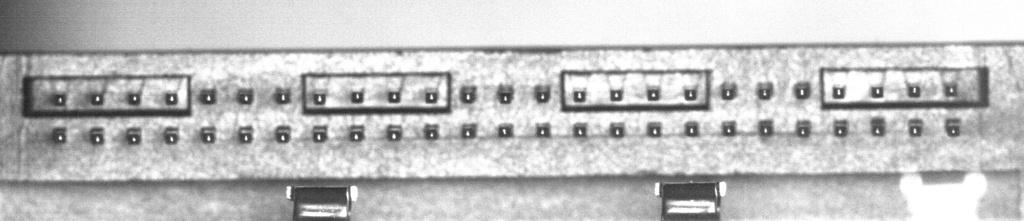pin_ok: (497, 84, 514, 104), (870, 116, 887, 136), (756, 82, 774, 100), (832, 118, 849, 137), (945, 117, 962, 136), (534, 83, 551, 102), (163, 126, 180, 144), (460, 85, 477, 103), (198, 87, 216, 104), (274, 126, 291, 143), (348, 125, 365, 142), (237, 87, 254, 104), (274, 87, 291, 104), (794, 82, 811, 99), (796, 119, 812, 137), (908, 118, 924, 136), (721, 82, 737, 100), (200, 126, 216, 143), (238, 126, 254, 143), (312, 125, 328, 142), (684, 120, 700, 137), (423, 123, 439, 140), (460, 123, 477, 139), (647, 120, 663, 136), (535, 121, 551, 137), (498, 122, 514, 138), (386, 125, 402, 141), (126, 127, 141, 144), (89, 127, 104, 144), (758, 119, 773, 136), (610, 121, 625, 137), (721, 120, 737, 135), (52, 127, 67, 143), (683, 86, 698, 101), (164, 91, 179, 106), (572, 123, 588, 137), (646, 86, 660, 101), (943, 83, 958, 97), (907, 84, 921, 98), (832, 85, 846, 99), (387, 89, 401, 103), (350, 89, 364, 103), (53, 92, 67, 106), (870, 85, 885, 98), (572, 89, 587, 102), (424, 90, 438, 103), (312, 92, 326, 105), (127, 92, 141, 105), (89, 92, 103, 105), (610, 88, 623, 101)
